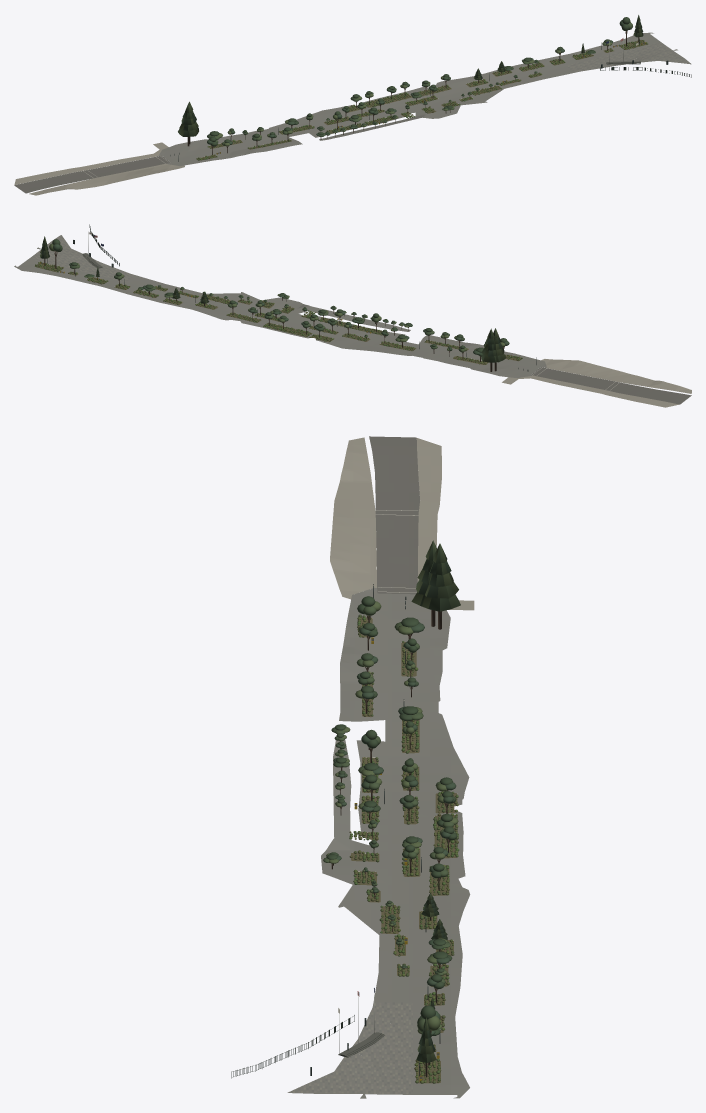
File: site.glb
3 views of the same model, one above another, from view 1: azimuth 30°, elevation 25°; view 2: azimuth 150°, elevation 25°; view 3: azimuth 270°, elevation 25° (orthographic). The views are drawn at different scales.
Parts seen in each view (by area): view 1: east-fifteenth-hayward-paving, east-fifteenth-hayward-planting, east-fifteenth-hayward-furnishings; view 2: east-fifteenth-hayward-paving, east-fifteenth-hayward-planting, east-fifteenth-hayward-furnishings; view 3: east-fifteenth-hayward-paving, east-fifteenth-hayward-planting, east-fifteenth-hayward-furnishings.
Part boxes in pixels (box(x1,y1,x2,y2)): east-fifteenth-hayward-paving: box(14, 32, 691, 195); east-fifteenth-hayward-planting: box(178, 15, 647, 160); east-fifteenth-hayward-furnishings: box(170, 38, 691, 161); east-fifteenth-hayward-paving: box(14, 235, 691, 407); east-fifteenth-hayward-planting: box(35, 236, 522, 371); east-fifteenth-hayward-furnishings: box(40, 224, 536, 371); east-fifteenth-hayward-paving: box(287, 436, 474, 1098); east-fifteenth-hayward-planting: box(323, 540, 460, 1083); east-fifteenth-hayward-furnishings: box(231, 584, 440, 1081).
Size of the model in its own units: 378 by 27.97 by 61.12.
